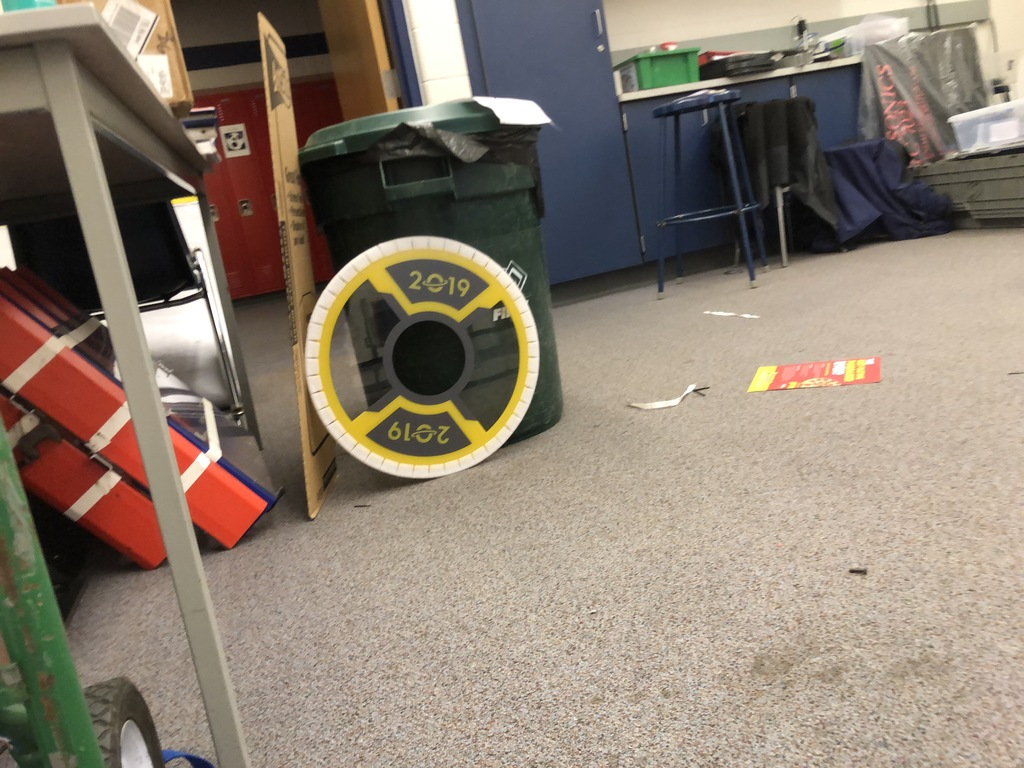hatch_panel: (291, 224, 575, 493)
